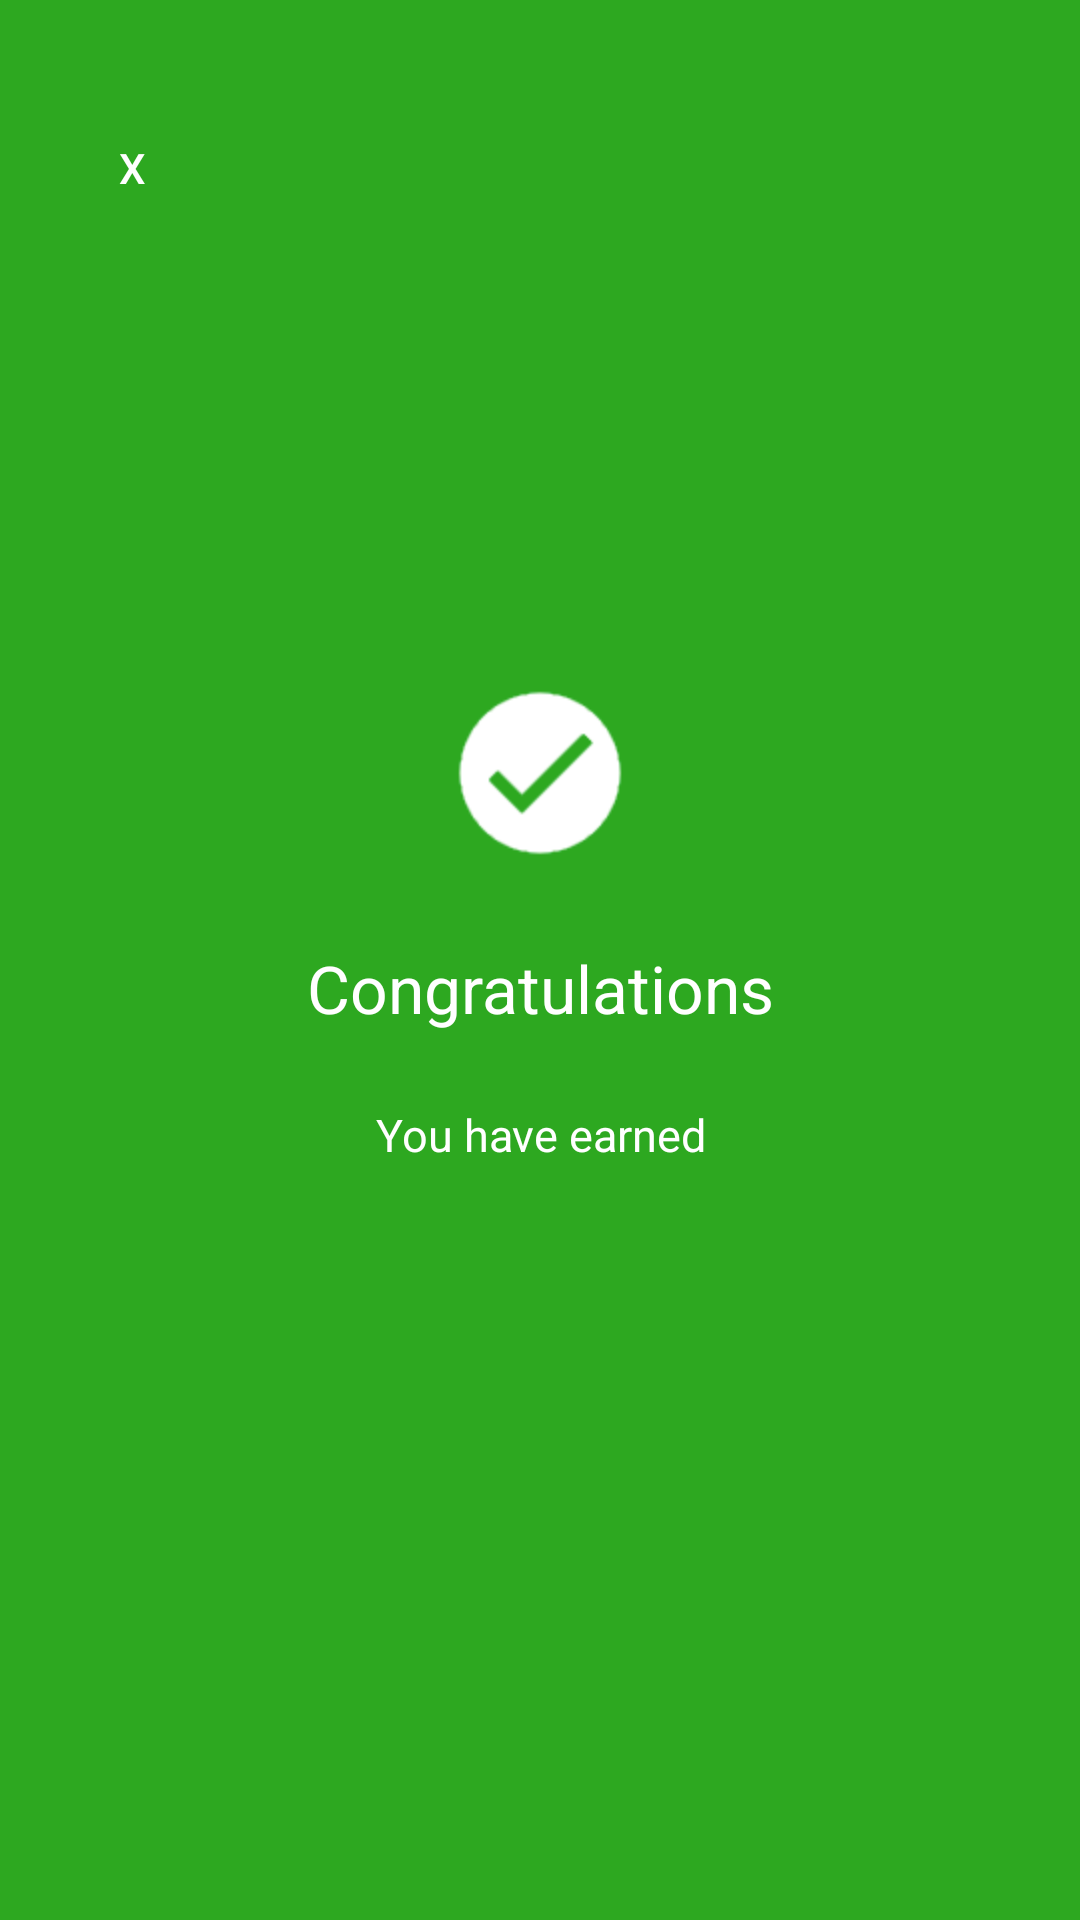

Icons on this 1080 x 1920 Android screen, each with the point to tap as (x,y):
completed: (540,773)
